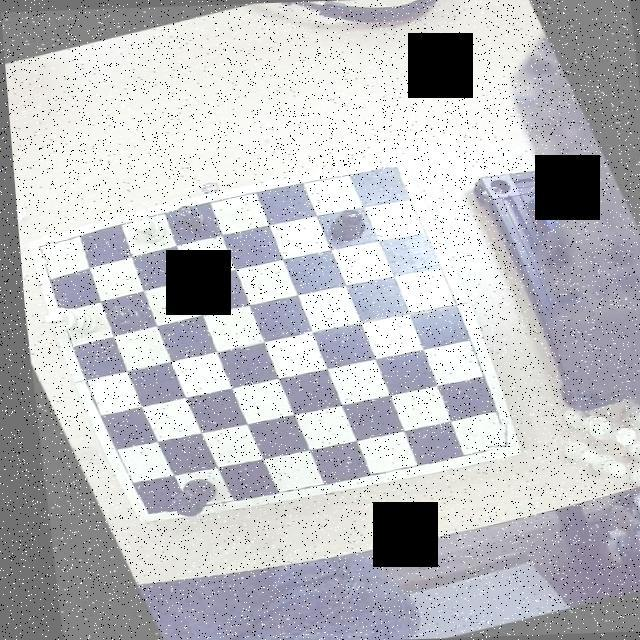chess-table-corners: (468, 418, 514, 458), (369, 157, 408, 193), (124, 491, 162, 523), (21, 234, 59, 264)
